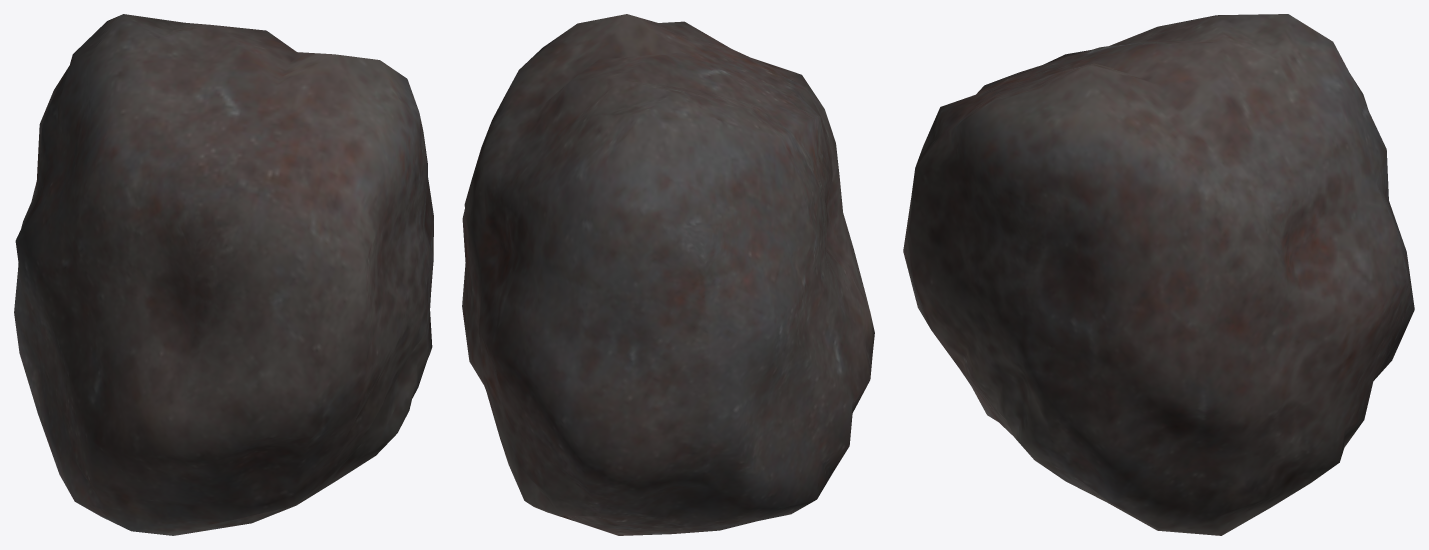
The model's file is asteroid1.dae.
The picture shows the model from 3 angles, left to right: view 1: azimuth 30°, elevation 25°; view 2: azimuth 150°, elevation 25°; view 3: azimuth 270°, elevation 25°; orthographic projection. The views are drawn at different scales.
Visible parts, largest first — view 1: Lp01; view 2: Lp01; view 3: Lp01.
Boxes of the visible parts, x1=… form: Lp01: x1=14, y1=14, x2=433, y2=535; Lp01: x1=462, y1=14, x2=874, y2=535; Lp01: x1=903, y1=14, x2=1414, y2=535.
Bounding box in the file's own units: 6.27 × 7.8 × 7.61.
1 material, 1 textured.
